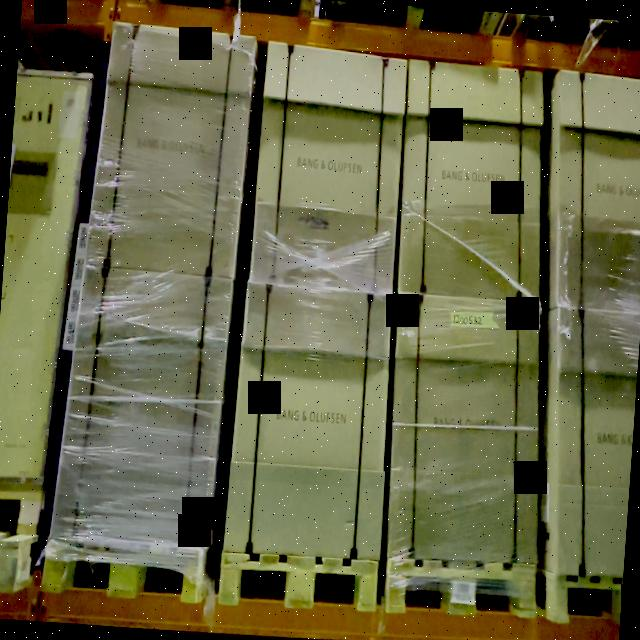box: (52, 266, 232, 546), (222, 282, 392, 561), (86, 22, 257, 280), (388, 292, 541, 563), (249, 41, 407, 295), (398, 60, 543, 301)
